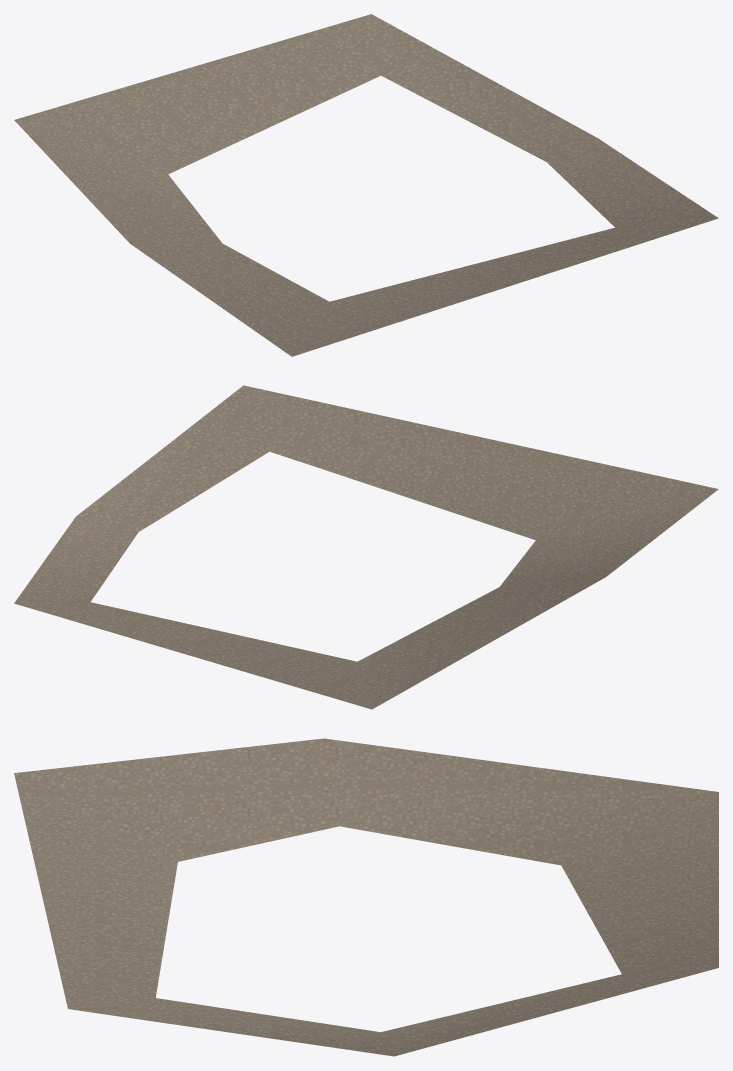
File: kd_stage_135ded_4_134.glb
The picture shows the model from 3 angles, top to bottom: view 1: azimuth 30°, elevation 25°; view 2: azimuth 150°, elevation 25°; view 3: azimuth 270°, elevation 25°; orthographic projection. The views are drawn at different scales.
Parts seen in each view (by area): view 1: kd_stage_135ded_4_134; view 2: kd_stage_135ded_4_134; view 3: kd_stage_135ded_4_134.
Part boxes in pixels (left/top/right/bottom): kd_stage_135ded_4_134: left=14, top=14, right=718, bottom=356; kd_stage_135ded_4_134: left=14, top=385, right=718, bottom=709; kd_stage_135ded_4_134: left=14, top=738, right=718, bottom=1056.
Bounding box in the file's own units: 1.26 × 0.1079 × 1.37.
1 material, 1 textured.
